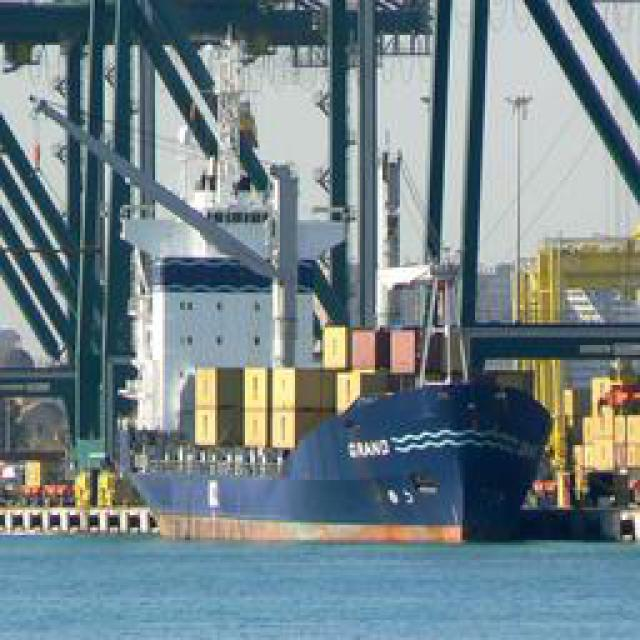Ship: (87, 66, 560, 564)
